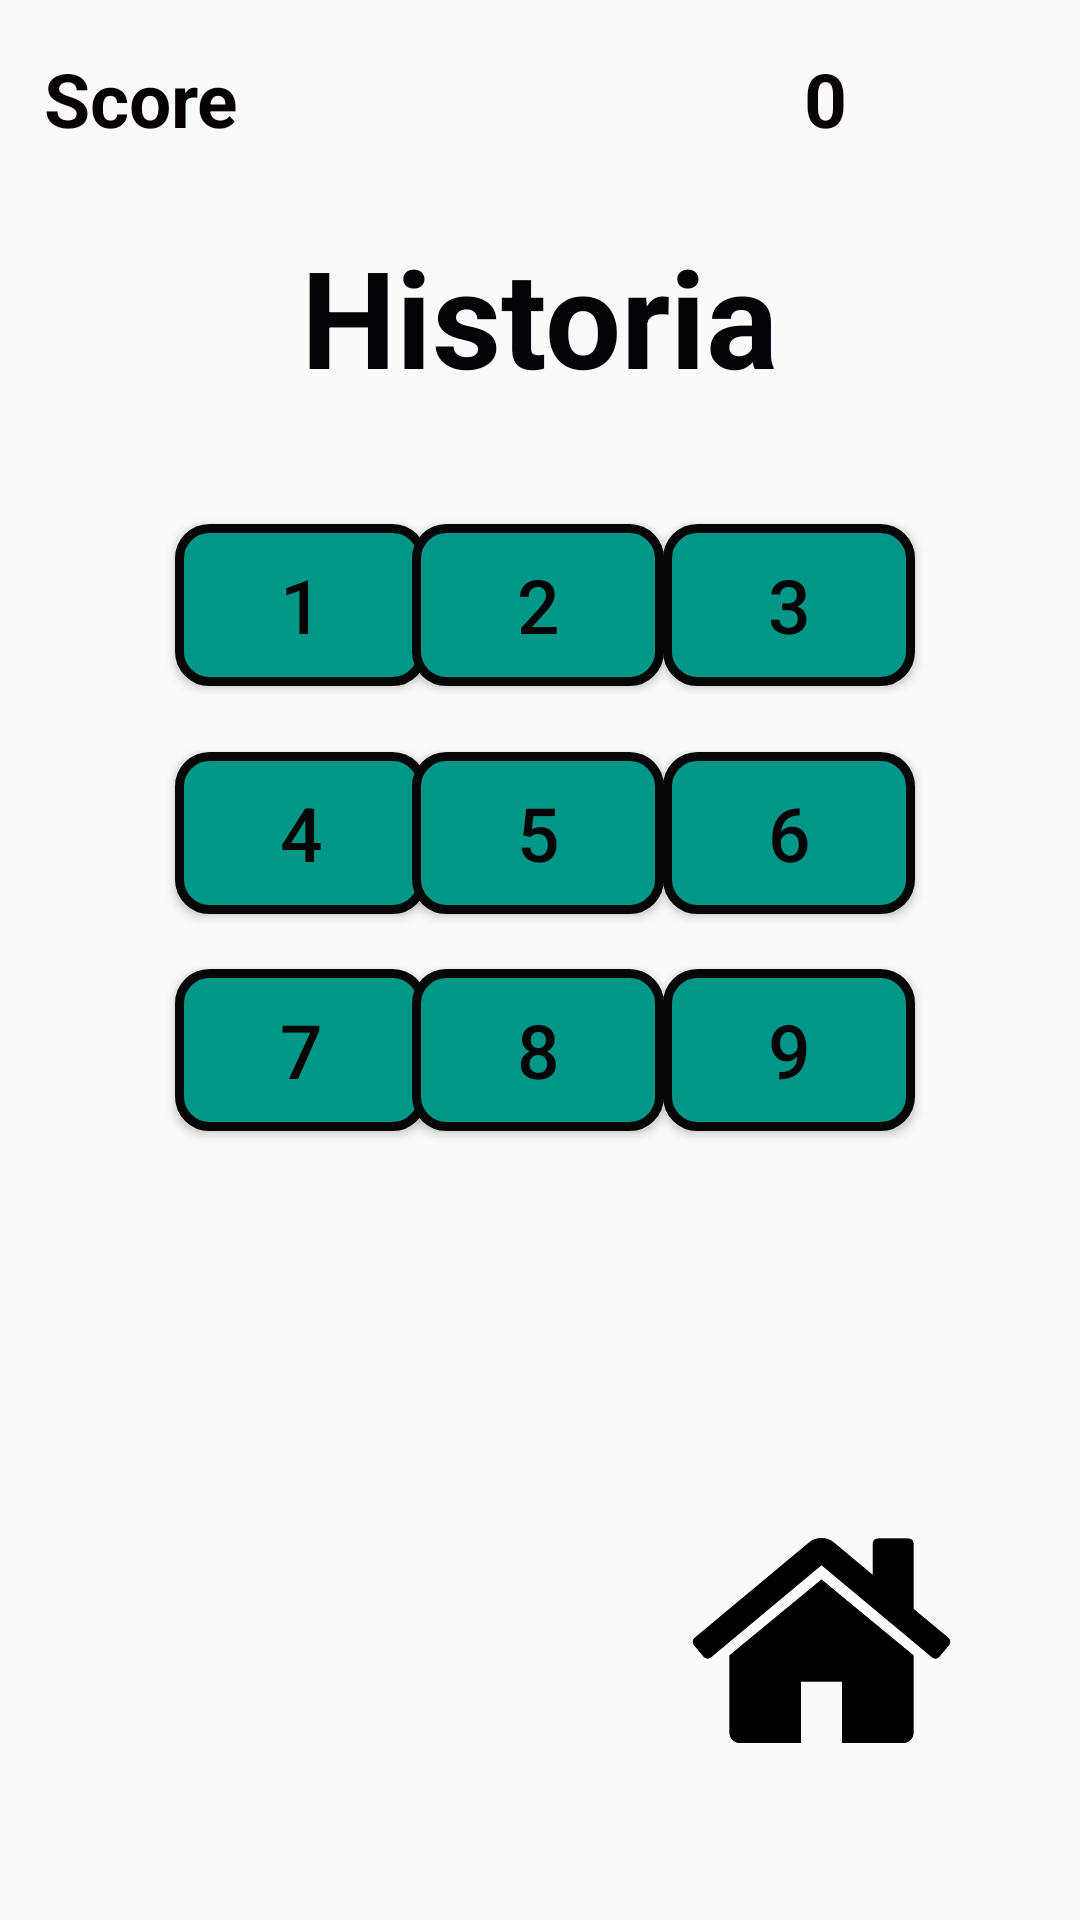

Screen size 1080px x 1920px. Icon name, then its box in pixels as (x1, y1, x2, y2):
home: (692, 1538, 951, 1743)
